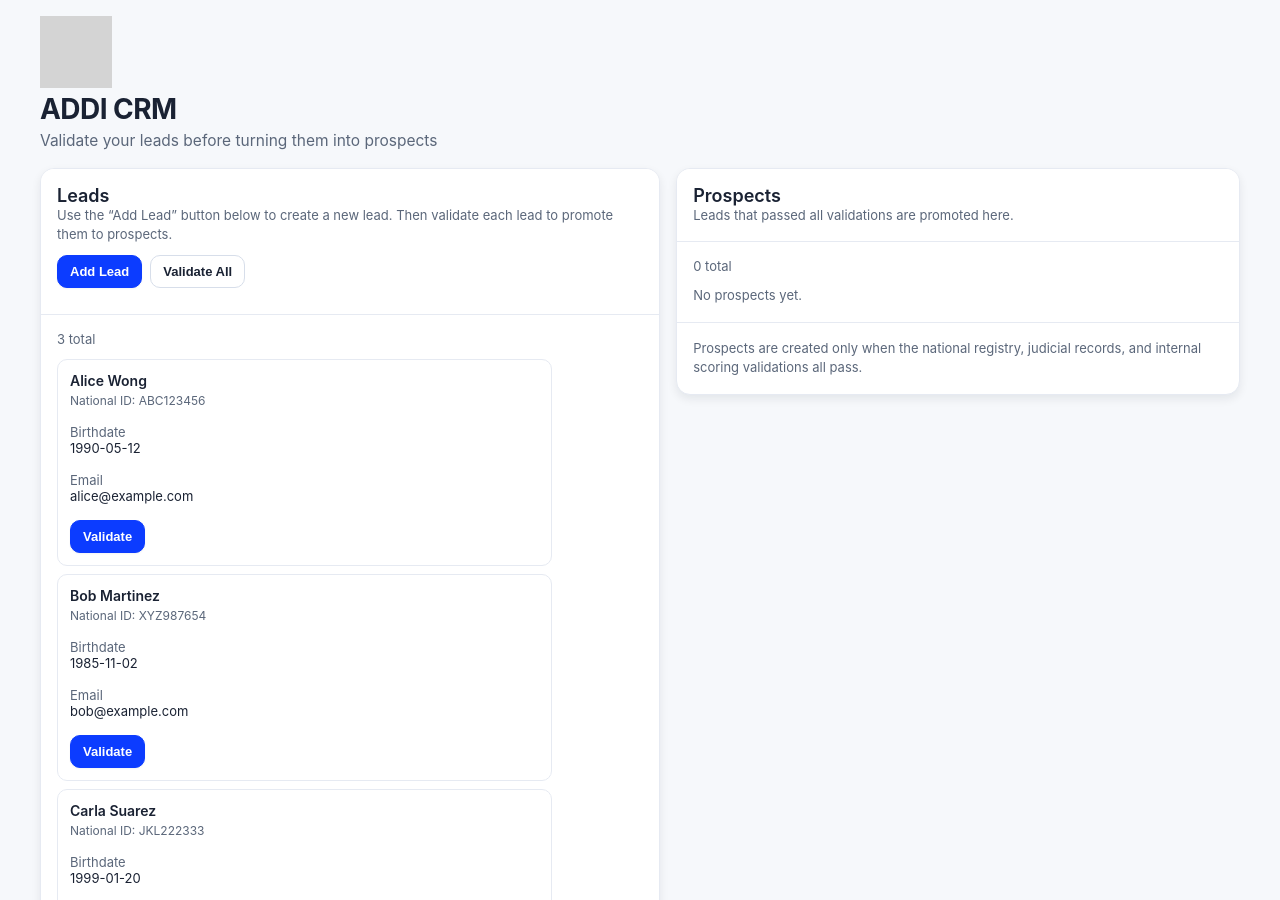
Scenario: MiniCRM › opens and closes new lead modal
Click the button "Add Lead". click: [100, 271]
box: [57,255,142,288]
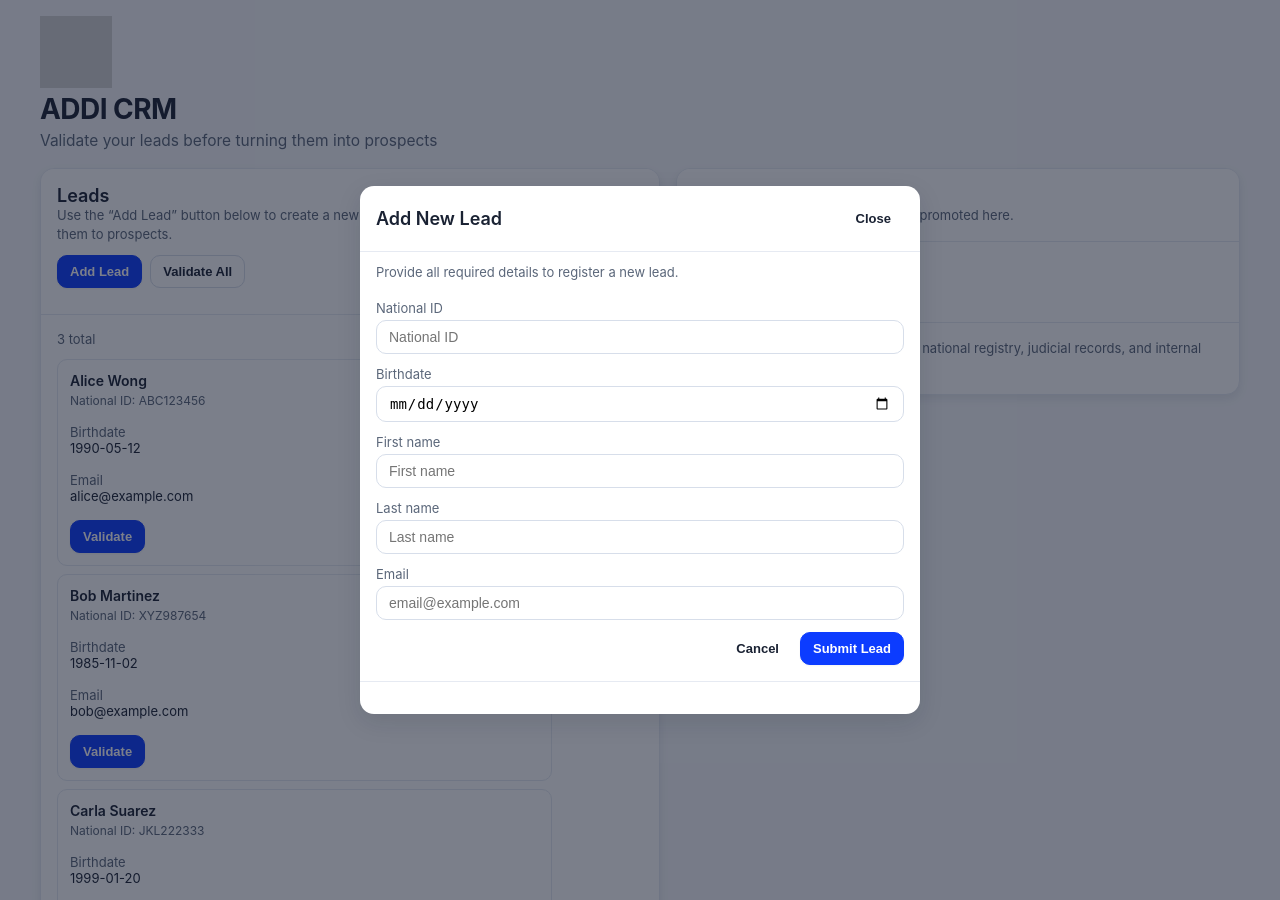
Now the text "Add New Lead" is shown, box [376,208,502,229]
Click the button "Close". click: [873, 218]
box: [843,202,904,235]
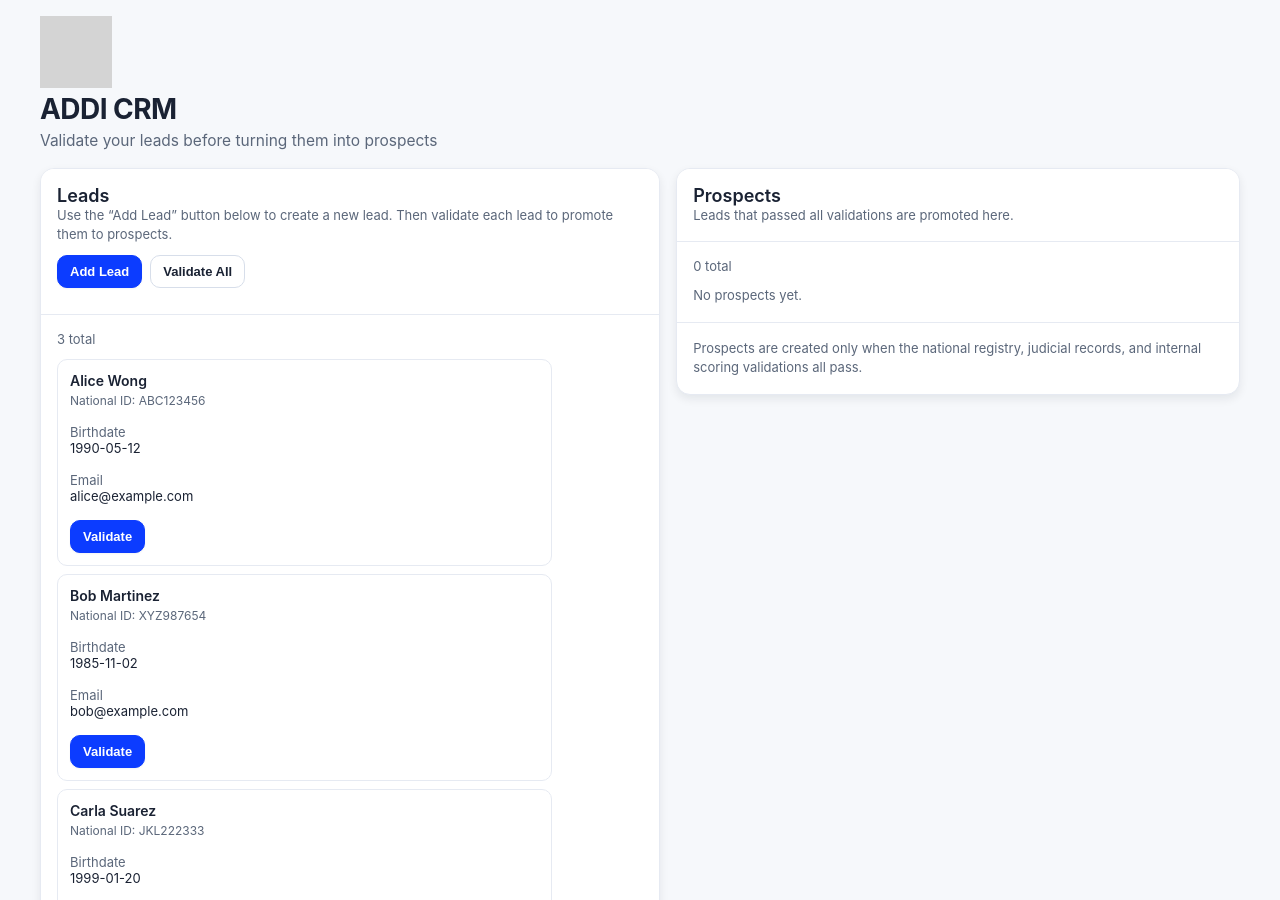
Now the text "Add New Lead" is gone
